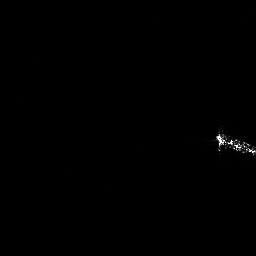ship: (213, 127, 256, 161)
